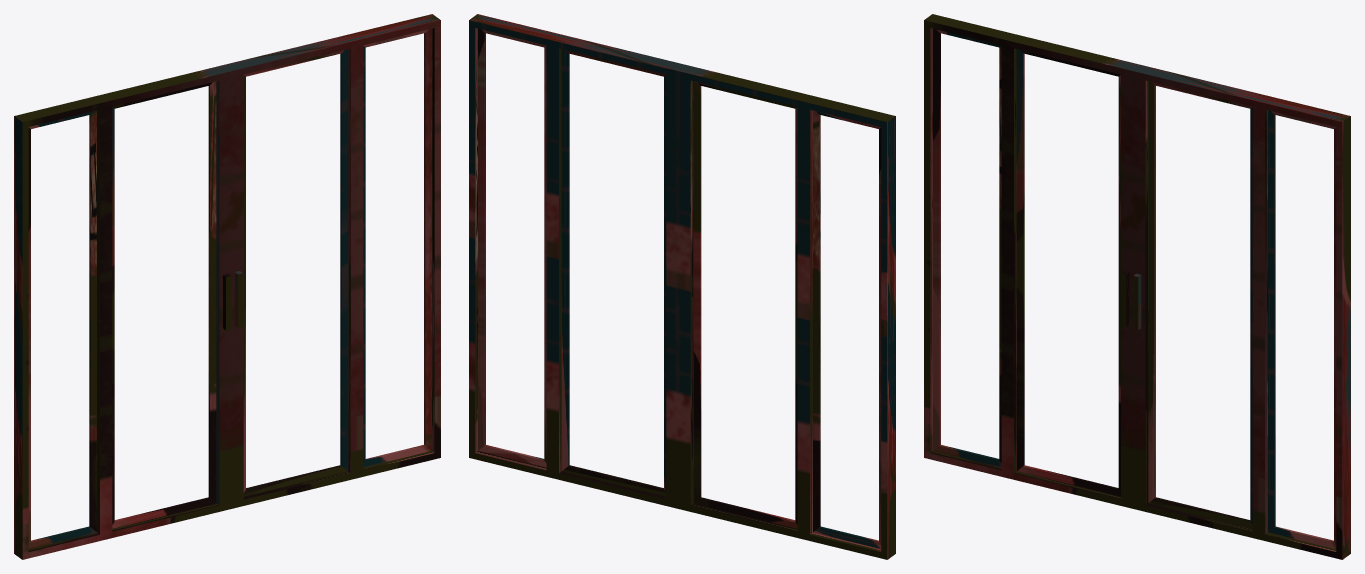
The model's file is PORTA 3M .fbx.
3 renders of one model, left to right at view 1: azimuth 30°, elevation 25°; view 2: azimuth 150°, elevation 25°; view 3: azimuth 330°, elevation 25°, orthographic.
Parts seen in each view (by area): view 1: Cube.012; view 2: Cube.012; view 3: Cube.012.
Part boxes in pixels (left/top/right/bottom): Cube.012: left=14, top=14, right=440, bottom=559; Cube.012: left=469, top=14, right=895, bottom=559; Cube.012: left=924, top=14, right=1350, bottom=559.
Size of the model in its own units: 300 by 300 by 14.32.
